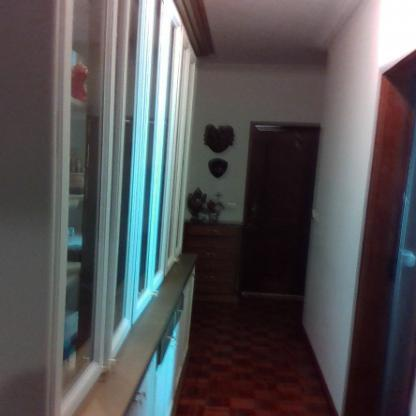door: (254, 127, 310, 293)
